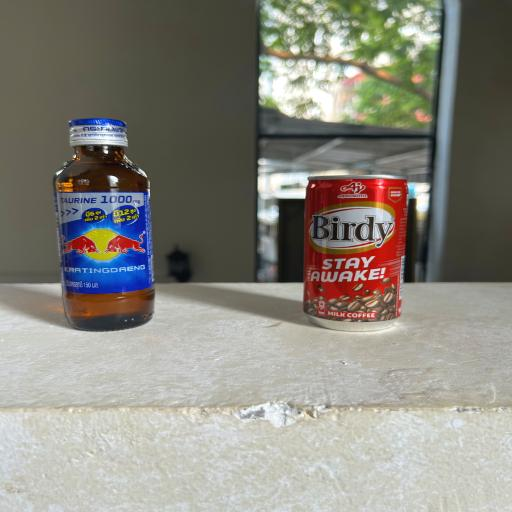birdy: (300, 173, 410, 335)
bo_huc: (50, 114, 162, 335)
